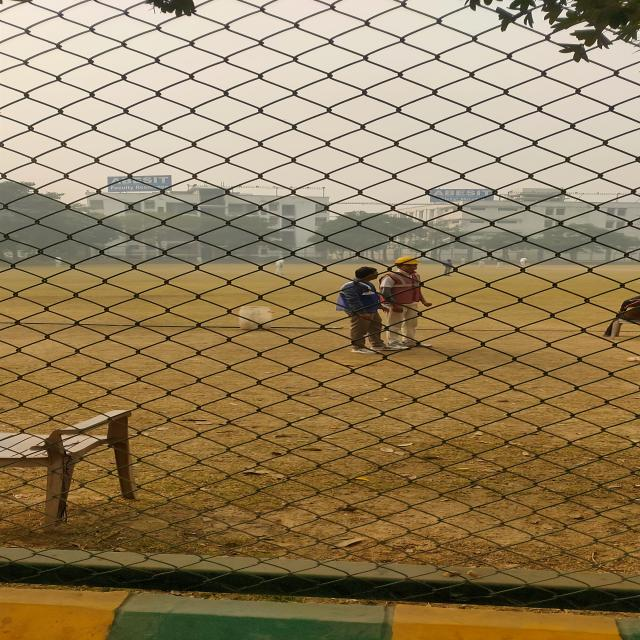safe: (382, 252, 428, 350)
unsafe: (336, 267, 388, 355)
